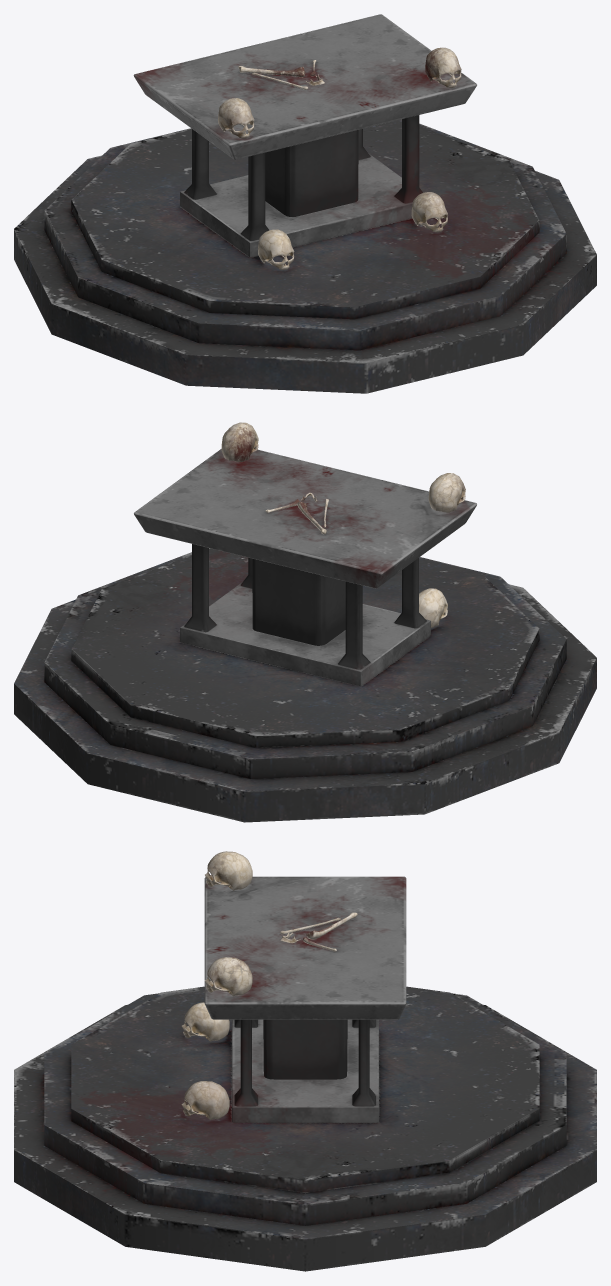
The model's file is sacrifice_table.glb.
The picture shows the model from 3 angles, top to bottom: view 1: azimuth 30°, elevation 25°; view 2: azimuth 150°, elevation 25°; view 3: azimuth 270°, elevation 25°; orthographic projection. The views are drawn at different scales.
Parts seen in each view (by area): view 1: Table_low, Skull2_low, Skull3_low, Skull_low, Skull4_low; view 2: Table_low, Skull_low, Skull2_low, Skull3_low; view 3: Table_low, Skull_low, Skull2_low, Skull4_low, Skull3_low.
Boxes of the visible parts, x1,y1,x2,y2 form: Table_low: [14, 14, 596, 393]; Skull2_low: [218, 98, 254, 138]; Skull3_low: [258, 229, 294, 269]; Skull_low: [425, 47, 461, 87]; Skull4_low: [411, 192, 447, 232]; Table_low: [14, 449, 596, 822]; Skull_low: [221, 422, 258, 461]; Skull2_low: [428, 473, 465, 512]; Skull3_low: [419, 588, 447, 627]; Table_low: [14, 876, 596, 1271]; Skull_low: [204, 957, 252, 996]; Skull2_low: [205, 851, 252, 890]; Skull4_low: [181, 1081, 229, 1119]; Skull3_low: [182, 1002, 229, 1041].
Size of the model in its own units: 83.37 by 35.32 by 79.29.
Materials: 1 (1 with a texture image).
